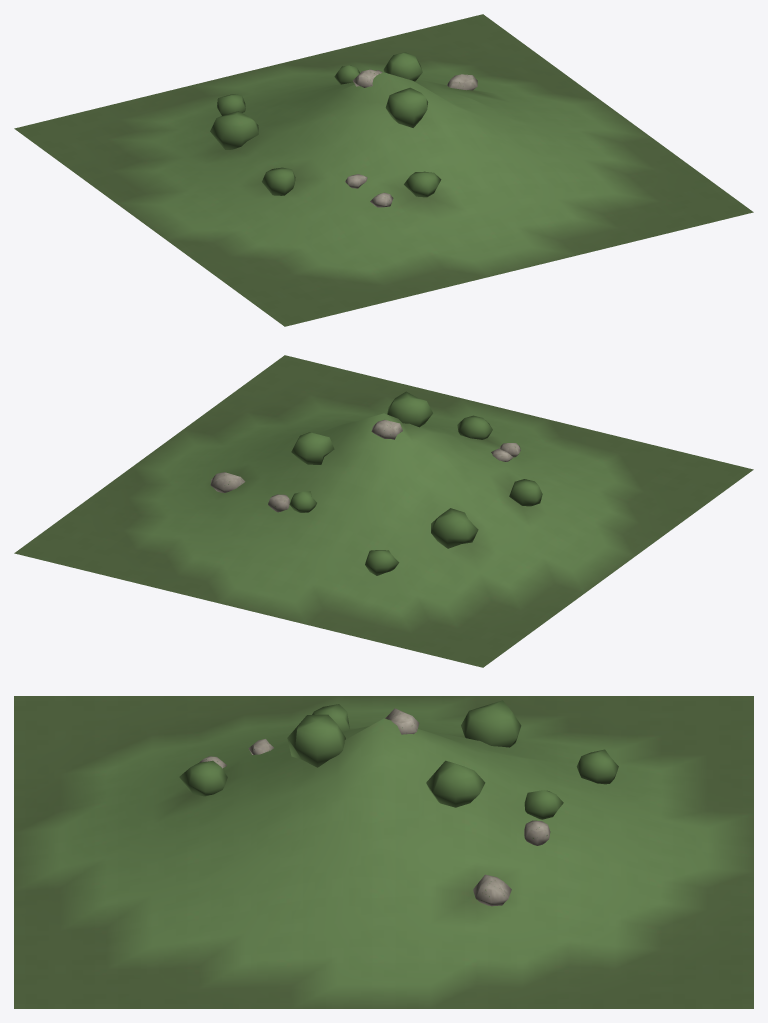
Rendered from hill.glb.
3 renders of one model, top to bottom at view 1: azimuth 30°, elevation 25°; view 2: azimuth 150°, elevation 25°; view 3: azimuth 270°, elevation 25°, orthographic. The views are drawn at different scales.
Parts seen in each view (by area): view 1: scenery.hill; view 2: scenery.hill; view 3: scenery.hill.
Boxes of the visible parts, x1,y1,x2,y2 form: scenery.hill: (14,14,753,326); scenery.hill: (14,355,753,667); scenery.hill: (14,696,753,1008).
Size of the model in its own units: 20 by 4 by 20.
Materials: 2 (2 with a texture image).
